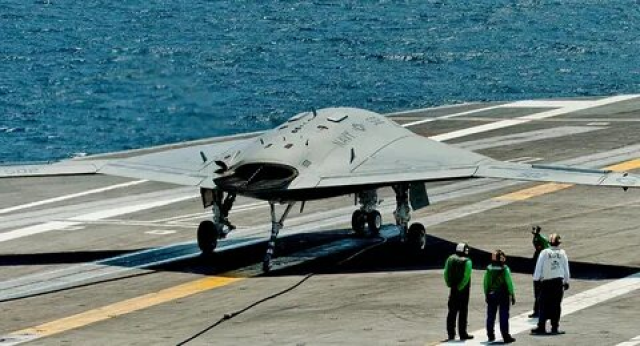military drone: (0, 105, 640, 272)
